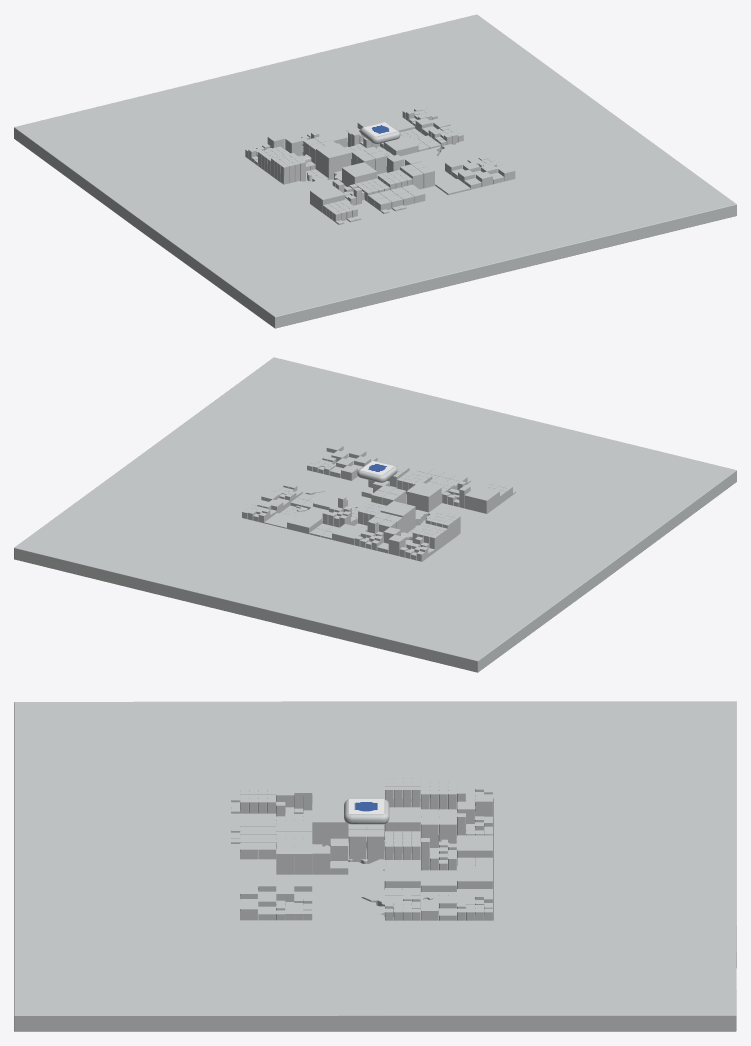
The model's file is BG_Monolit2.glb.
The picture shows the model from 3 angles, top to bottom: view 1: azimuth 30°, elevation 25°; view 2: azimuth 150°, elevation 25°; view 3: azimuth 270°, elevation 25°; orthographic projection. The views are drawn at different scales.
Parts seen in each view (by area): view 1: Boxes; view 2: Boxes; view 3: Boxes, Button, Button_icon.
Part boxes in pixels (x1,y1,x2,y2): Boxes: (14,14,736,328); Boxes: (14,357,736,672); Boxes: (14,701,736,1031); Button: (344,799,389,824); Button_icon: (349,799,384,813).
Size of the model in its own units: 41.2 by 8.65 by 40.03.
Materials: 2 (1 with a texture image).
